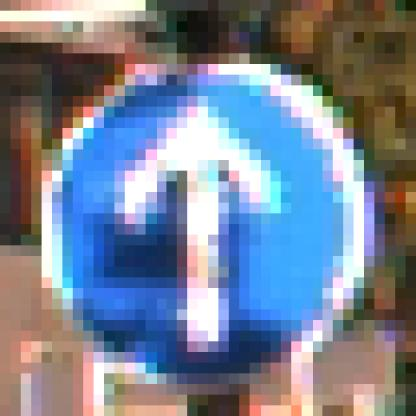AheadOnly: (53, 54, 365, 364)
